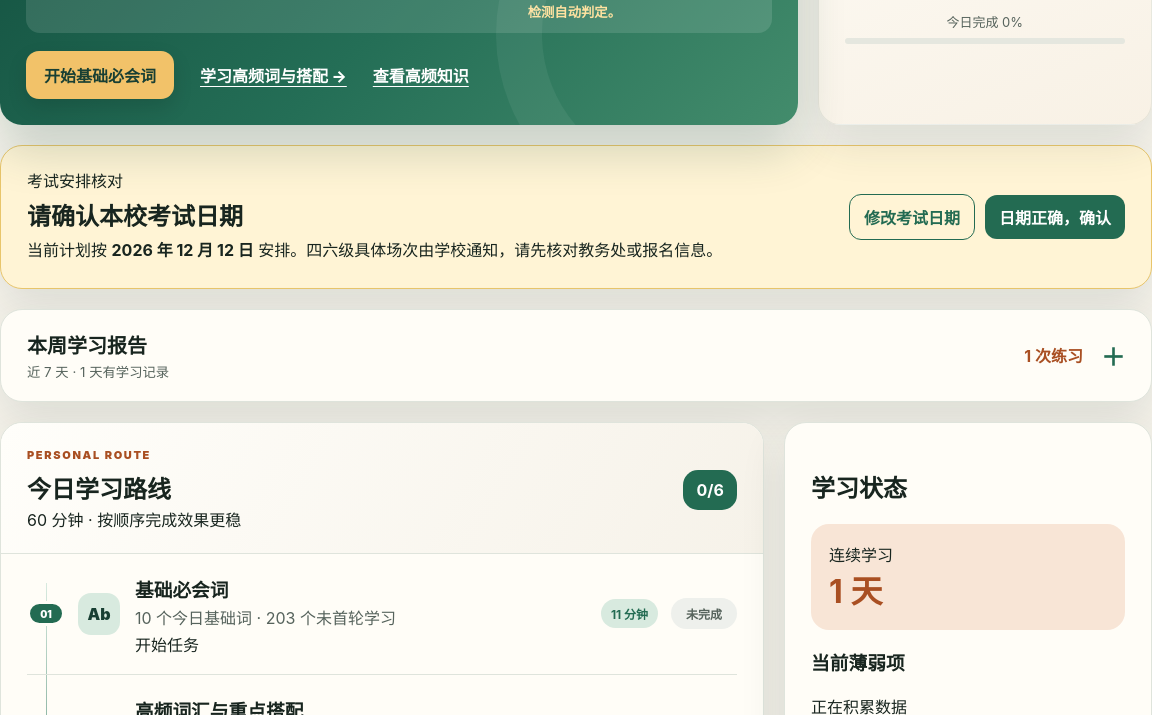
TodayPage › shows an expandable seven-day learning report from saved progress
(page scrolled)
Click the heading "本周学习报告 近 7 天 · 1 天有学习记录 1 次练习" at (87, 346), box top-left (27, 334), bottom-right (1083, 380)
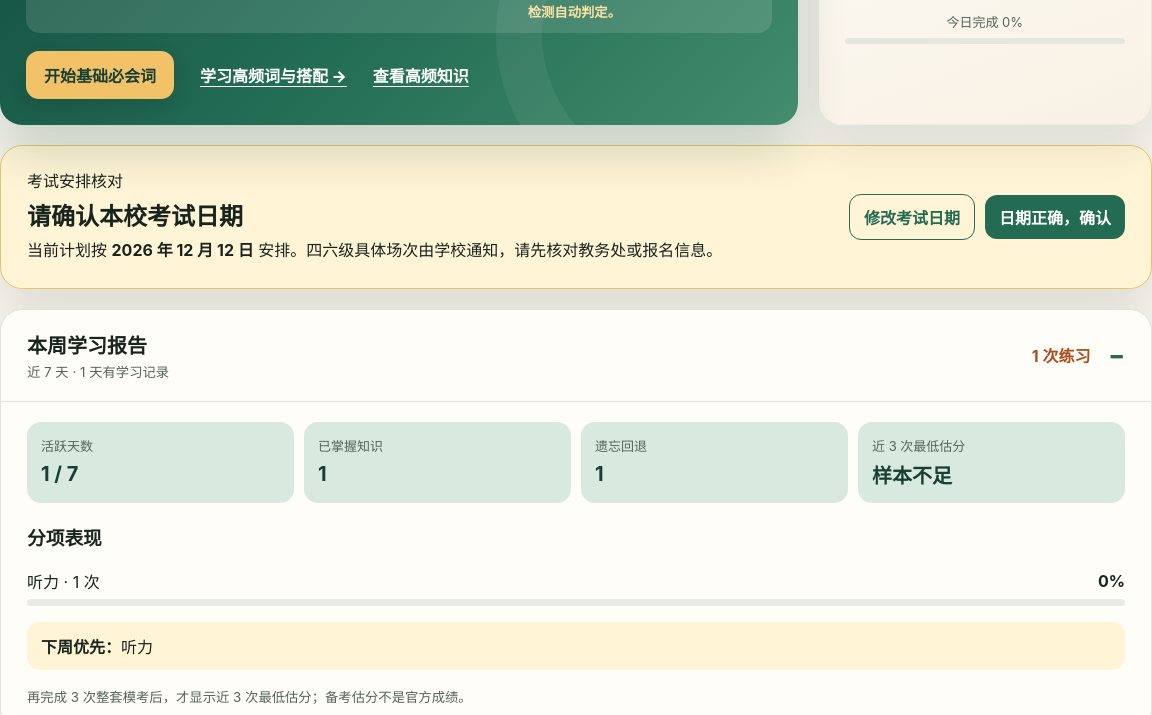
Check: the element named "本周概览" shows "1 / 7", box top-left (27, 422), bottom-right (1125, 503)
Check: the text "听力 · 1 次" is shown, box top-left (27, 572), bottom-right (100, 592)
Check: the text "再完成 3 次整套模考后，才显示近 3 次最低估分；备考估分不是官方成绩。" is shown, box top-left (27, 689), bottom-right (472, 705)
